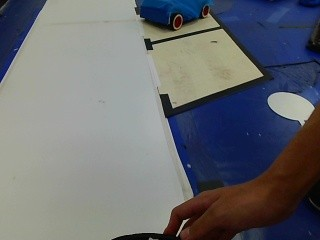car: (137, 0, 210, 32)
